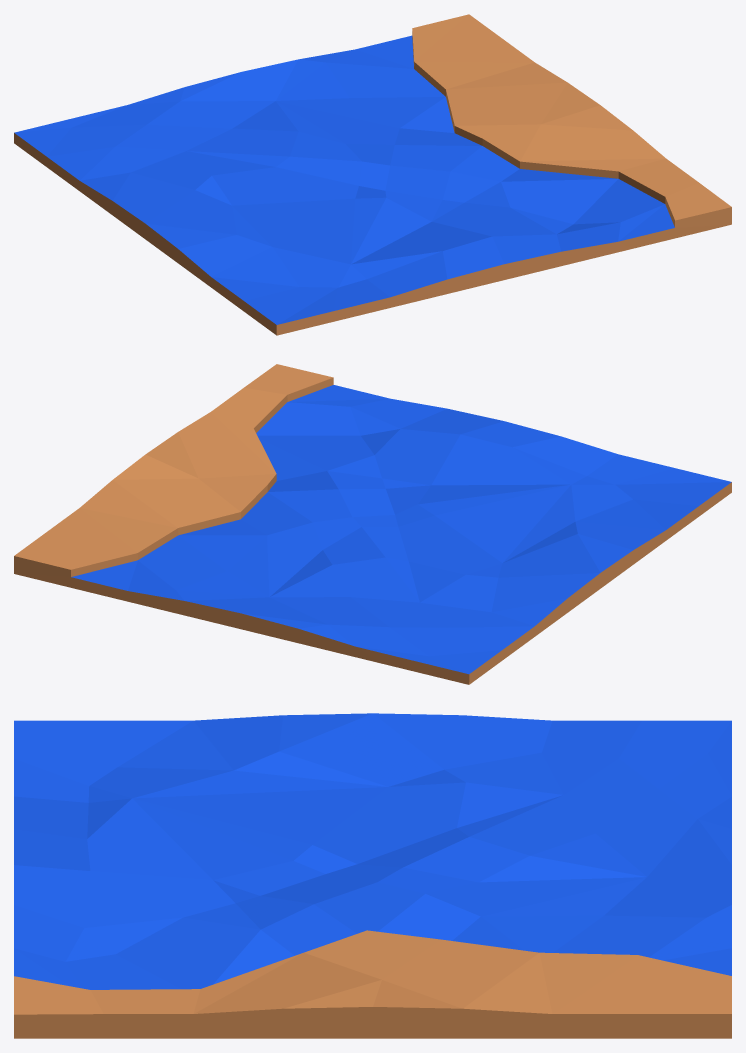
File: Water_mud_2.FBX
3 views of the same model, one above another, from view 1: azimuth 30°, elevation 25°; view 2: azimuth 150°, elevation 25°; view 3: azimuth 270°, elevation 25° (orthographic). The views are drawn at different scales.
Parts seen in each view (by area): view 1: Water_mud_2; view 2: Water_mud_2; view 3: Water_mud_2.
Boxes of the visible parts, x1,y1,x2,y2 form: Water_mud_2: [14, 14, 731, 335]; Water_mud_2: [14, 364, 731, 684]; Water_mud_2: [14, 713, 731, 1038].
Size of the model in its own units: 1.5 by 0.0732 by 1.5.
1 material, 1 textured.
